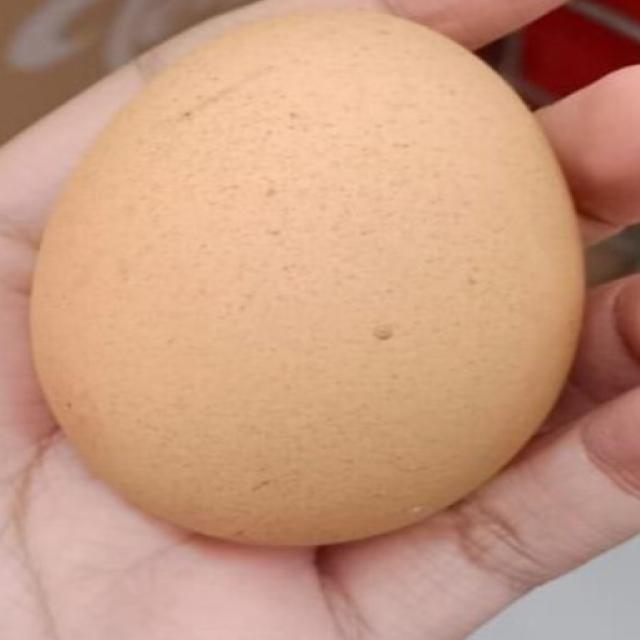unfresh: (25, 0, 580, 549)
